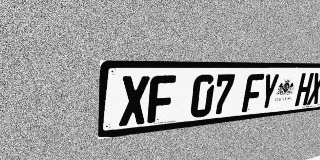0: (189, 74, 216, 118)
7: (210, 74, 235, 116)
F: (147, 75, 176, 123), (241, 74, 264, 112)
H: (294, 73, 314, 106)
X: (119, 76, 150, 127), (307, 73, 320, 105)
Y: (258, 73, 280, 111)
